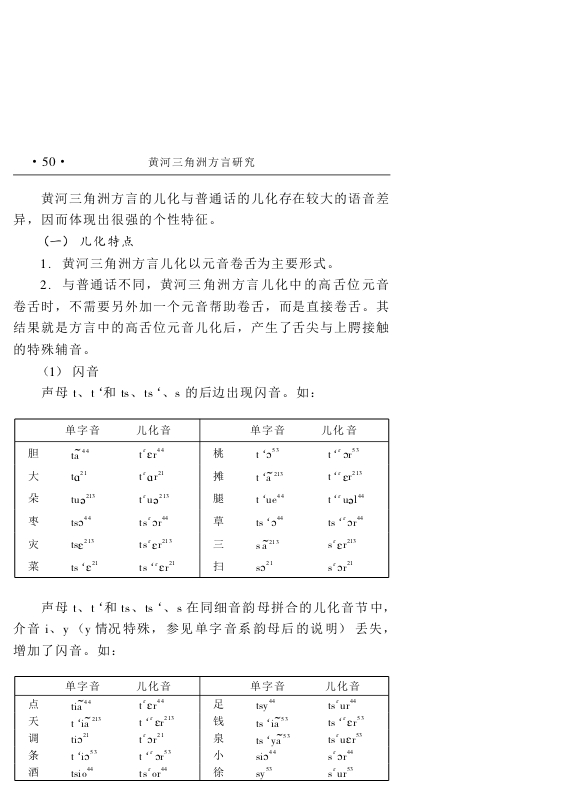table: (14, 418, 390, 578), (14, 676, 390, 781)
